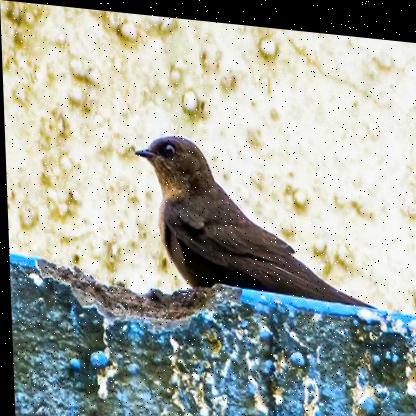Burung: (133, 128, 372, 298)
